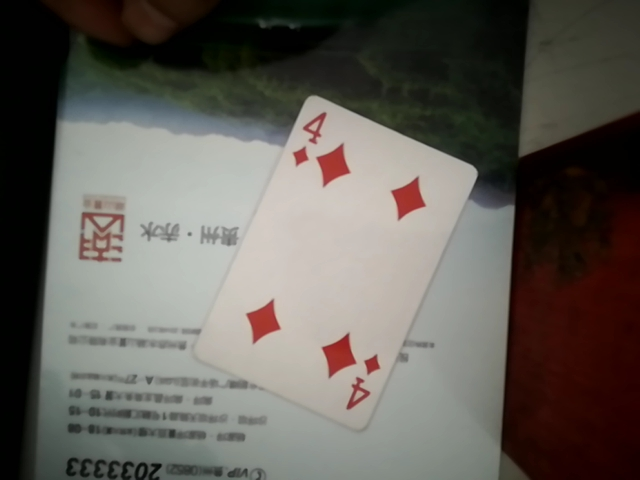fk 4: (201, 89, 486, 430)
